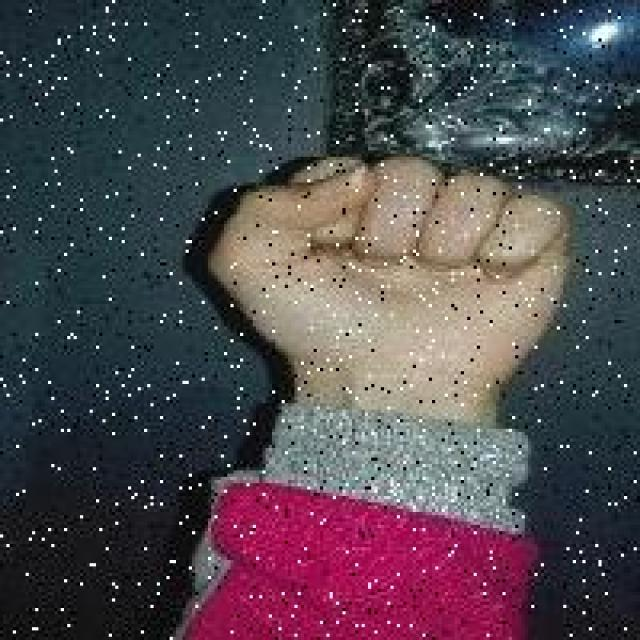S: (200, 147, 581, 371)
